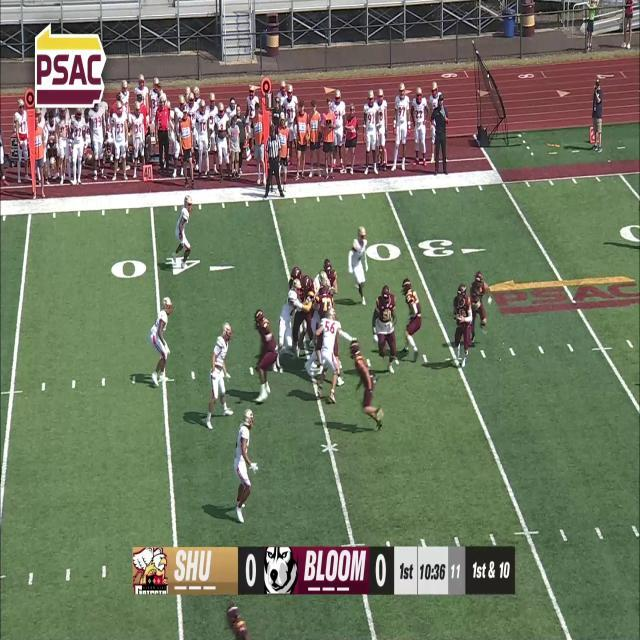football: (454, 312, 462, 326)
